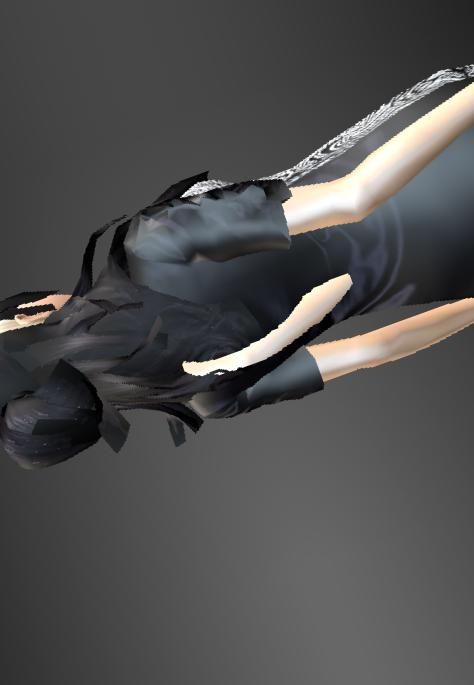clip: (165, 347, 253, 383)
